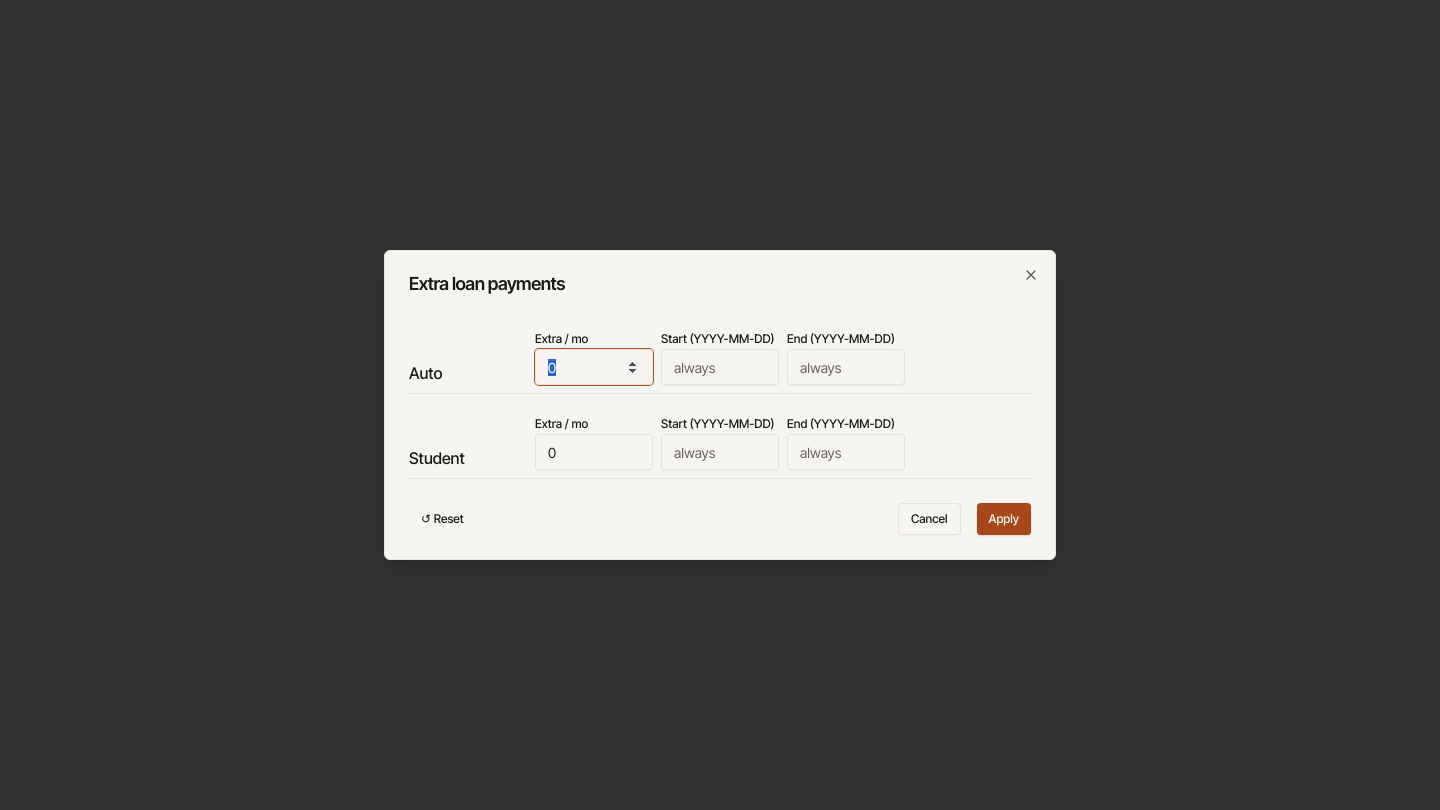
Test case: ExtraLoanPaymentsPopover › Reset reverts draft edits to the persisted lever value
This screenshot has width=1440, height=810.
Replace the text in the number field labelled "Extra / mo" next to "Auto" with "300" at (594, 367), box x1=535 y1=349 x2=653 y2=385
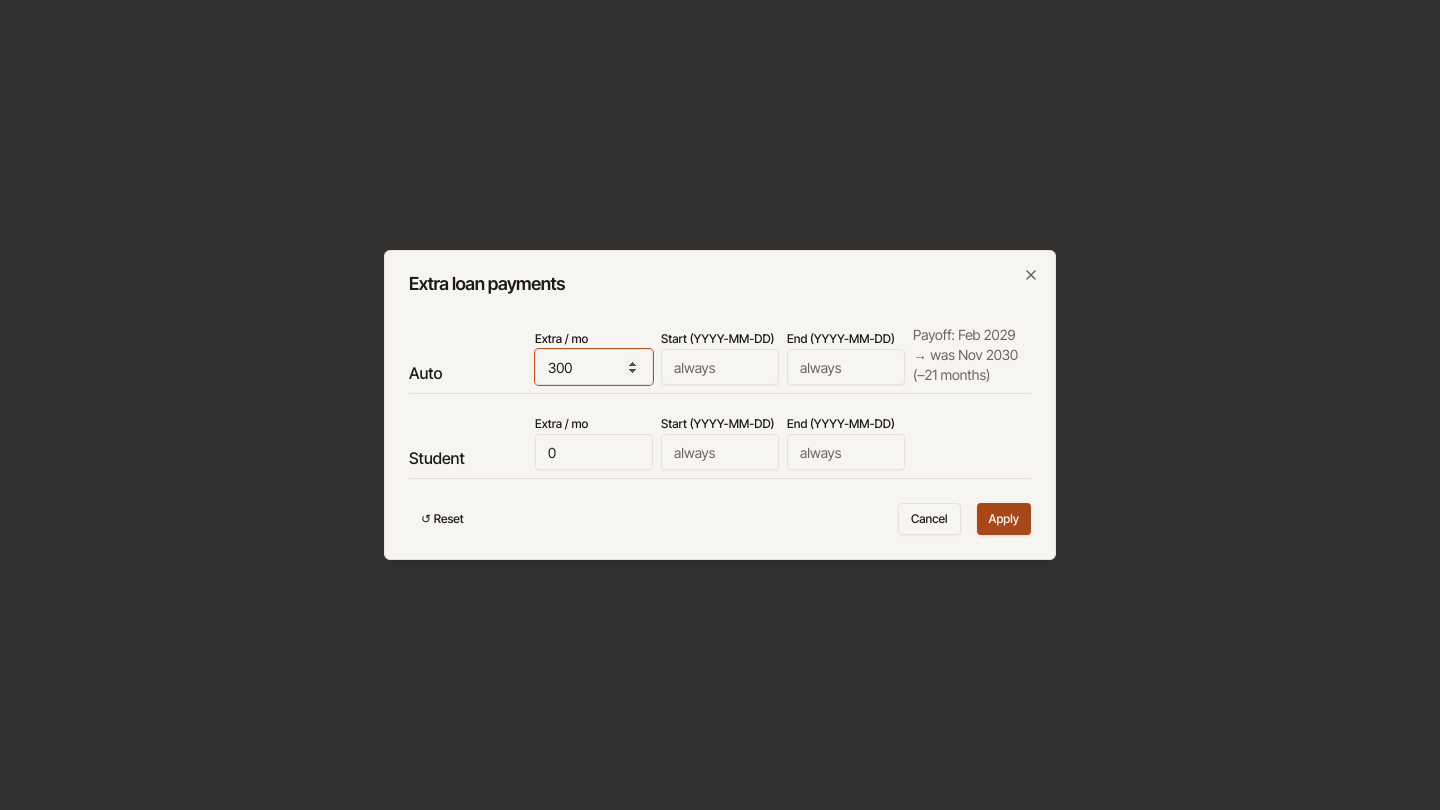
Click the button "↺ Reset" at (442, 519), box x1=409 y1=503 x2=476 y2=535
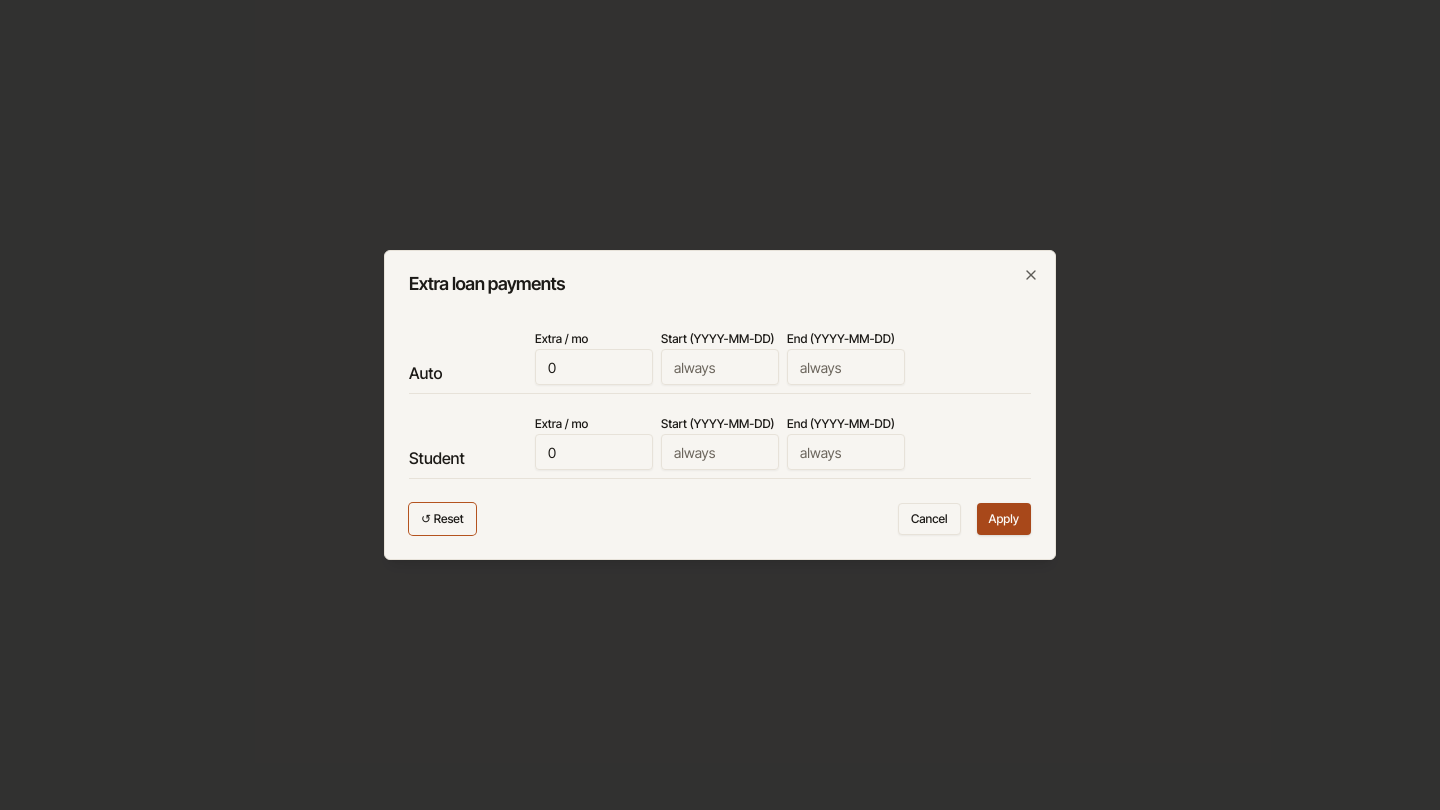
Check: the number field labelled "Extra / mo" next to "Auto" holds "0", box x1=535 y1=349 x2=653 y2=385
